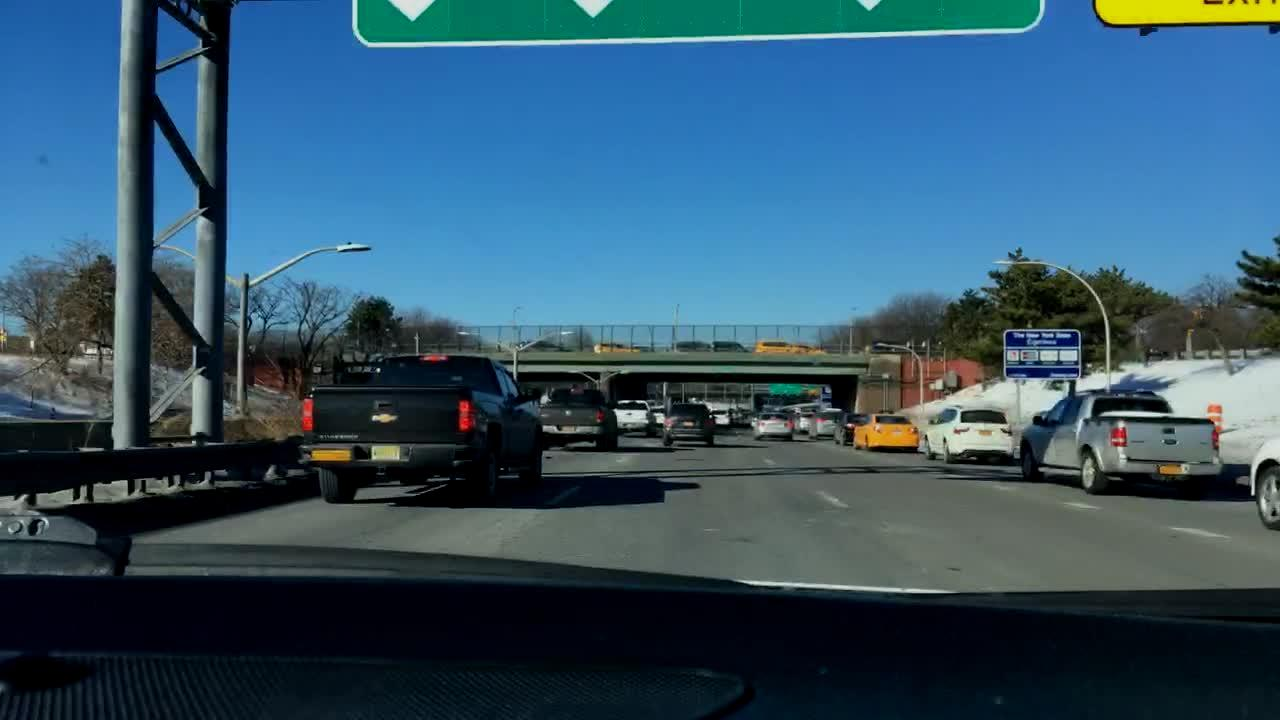chevrolet: (371, 410, 401, 427)
